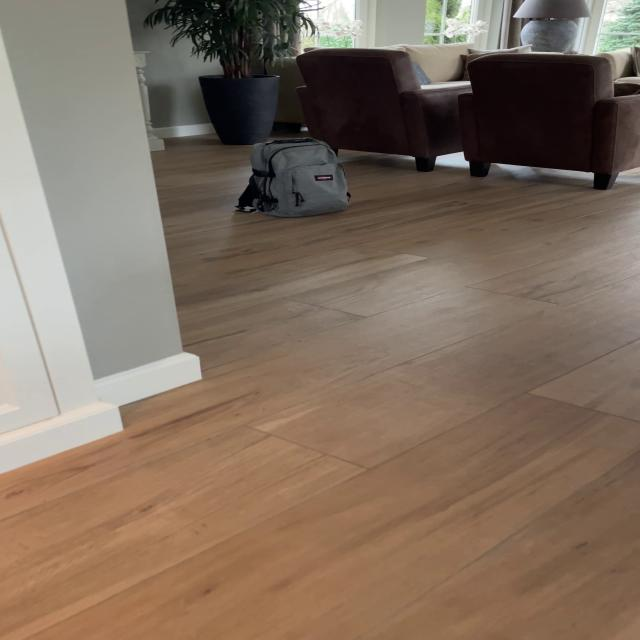backpack: (234, 134, 354, 222)
